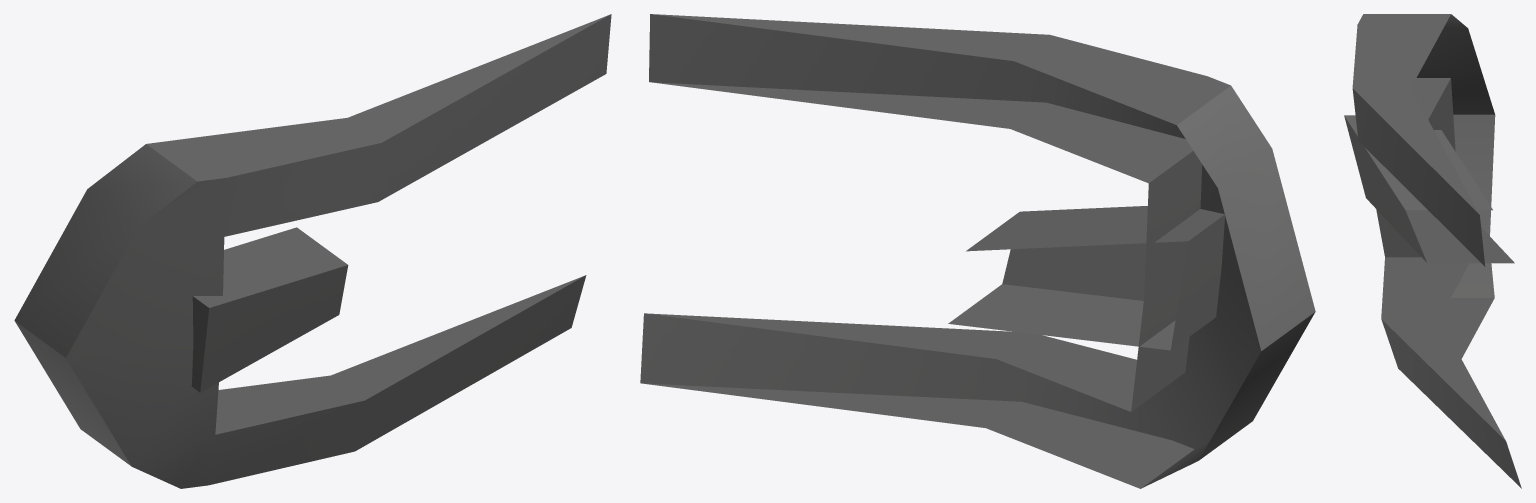
Rendered from Body_Prop_Belt_Buckle_02.fbx.
The picture shows the model from 3 angles, left to right: view 1: azimuth 30°, elevation 25°; view 2: azimuth 150°, elevation 25°; view 3: azimuth 270°, elevation 25°; orthographic projection. The views are drawn at different scales.
Parts seen in each view (by area): view 1: Body_Prop_Belt_Buckle_02; view 2: Body_Prop_Belt_Buckle_02; view 3: Body_Prop_Belt_Buckle_02.
Boxes of the visible parts, bbox=[...] form: Body_Prop_Belt_Buckle_02: bbox=[14, 14, 611, 488]; Body_Prop_Belt_Buckle_02: bbox=[640, 14, 1315, 488]; Body_Prop_Belt_Buckle_02: bbox=[1344, 14, 1521, 488].
Size of the model in its own units: 34.06 by 18.16 by 10.45.
